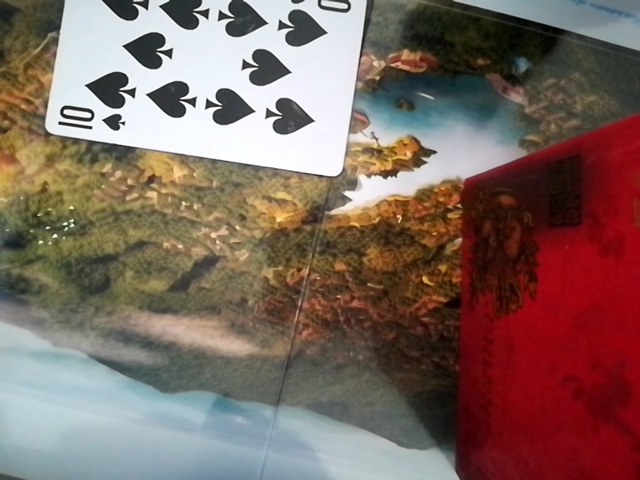ht 10: (41, 2, 371, 177)
